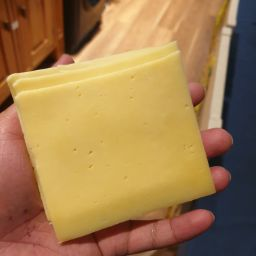Cheddar cheese: (2, 61, 224, 256), (11, 29, 189, 157), (5, 54, 207, 136)
